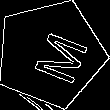M_W: (17, 23, 84, 84)
